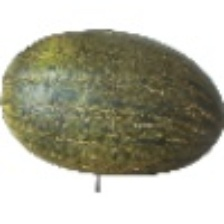honeydew: (18, 32, 181, 190)
